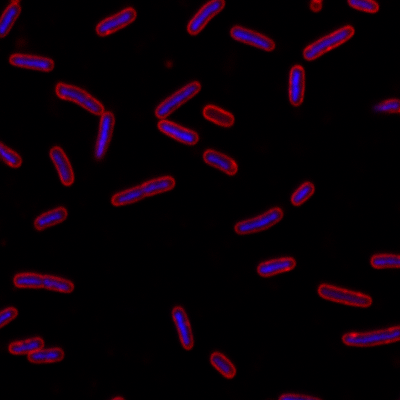Oblique: (94, 109, 118, 165), (368, 94, 400, 116)
Rifampicin: (110, 175, 175, 208), (300, 24, 356, 61), (153, 80, 204, 119), (54, 81, 106, 116), (12, 270, 76, 295), (318, 280, 373, 309), (185, 0, 228, 36), (233, 206, 284, 236), (227, 23, 275, 54), (95, 7, 137, 38), (155, 118, 199, 147), (169, 303, 194, 351), (48, 146, 76, 186), (201, 148, 238, 178), (32, 204, 68, 231), (286, 65, 308, 108), (255, 256, 297, 278), (8, 52, 55, 71), (208, 350, 237, 380), (6, 335, 45, 355), (25, 345, 68, 363), (288, 181, 317, 207)
Vesicle: (308, 0, 324, 13), (162, 58, 174, 69)
